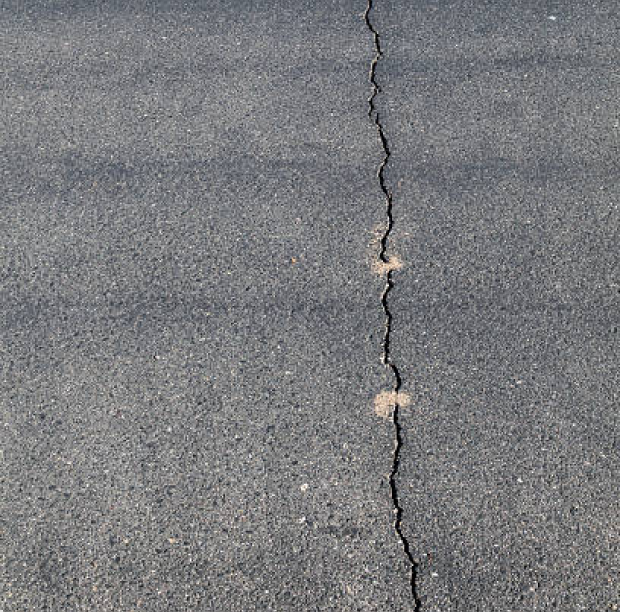Retak Melintang: (326, 2, 487, 612)
